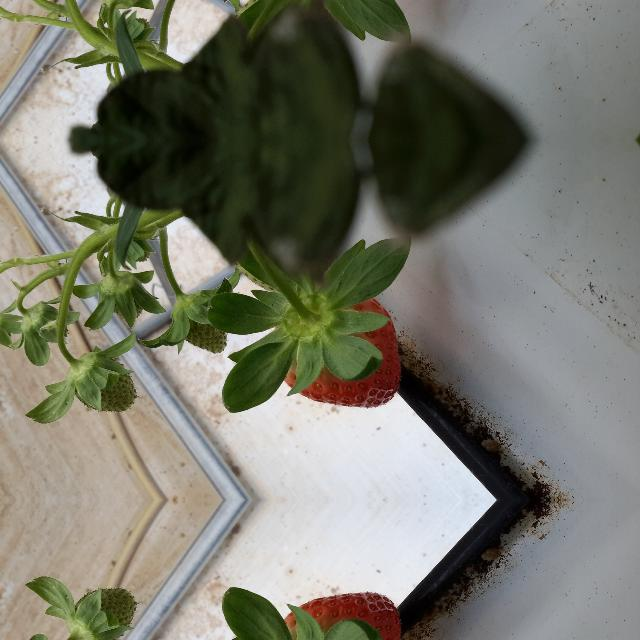Health_100: (284, 297, 400, 407), (284, 593, 399, 640)
Health_25: (66, 359, 140, 419), (66, 581, 139, 640), (166, 296, 228, 360)
